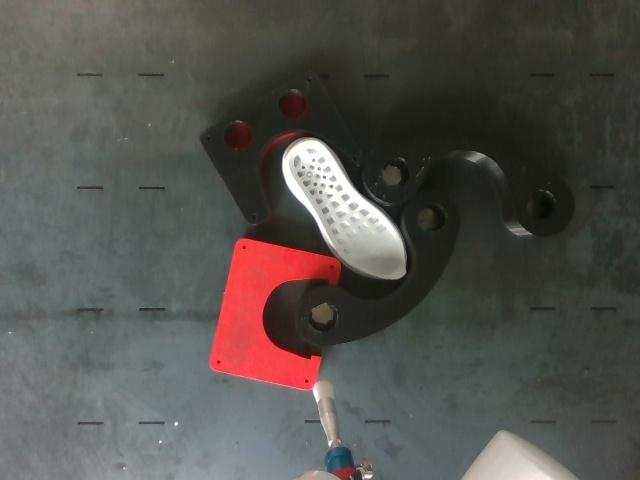shoes: (289, 140, 405, 280)
